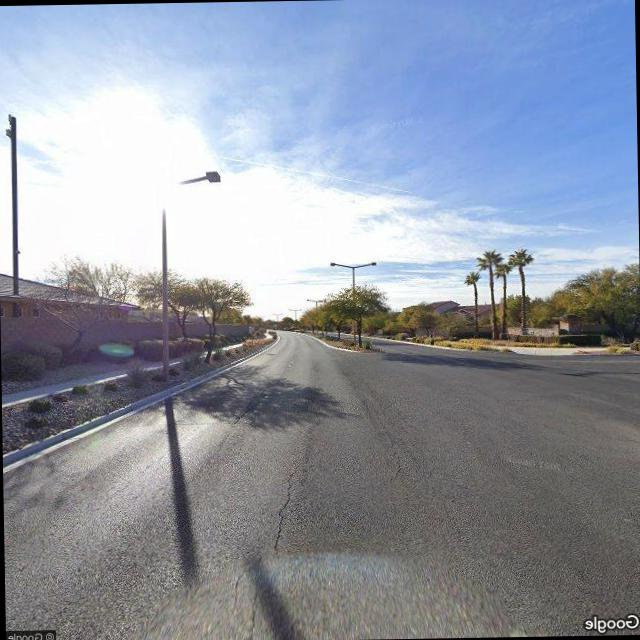pothole: (268, 466, 302, 553), (376, 416, 407, 484)
